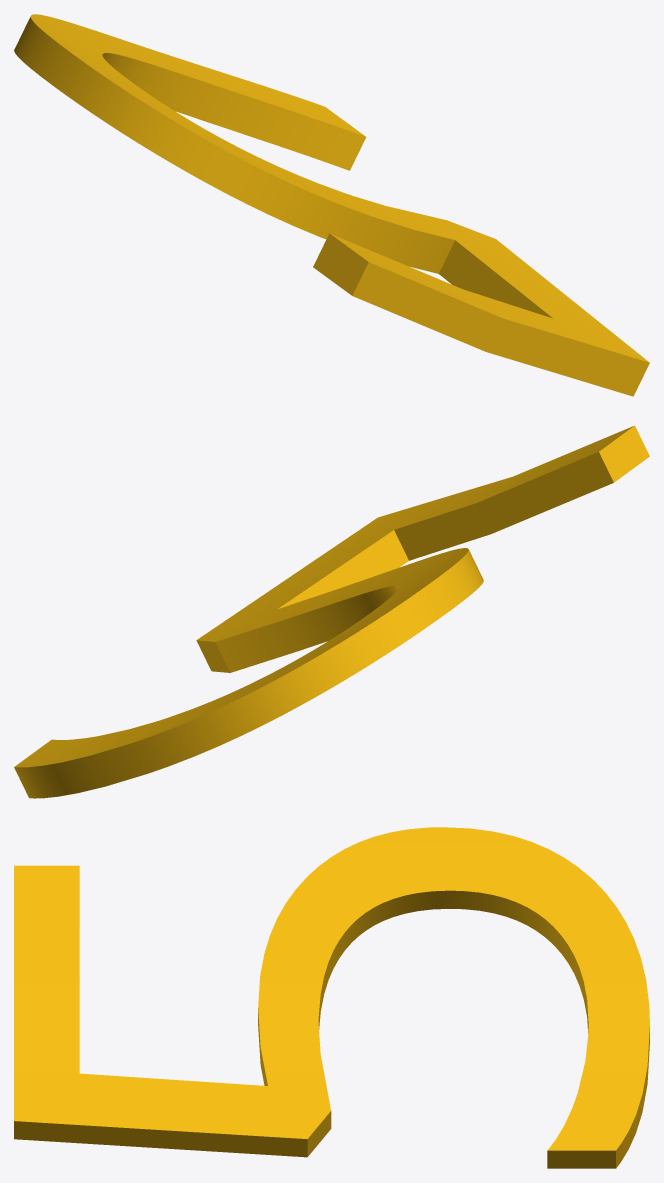
Rendered from Number_5.gltf.
The picture shows the model from 3 angles, top to bottom: view 1: azimuth 30°, elevation 25°; view 2: azimuth 150°, elevation 25°; view 3: azimuth 270°, elevation 25°; orthographic projection. The views are drawn at different scales.
Visible parts, largest first — view 1: Sub_5_Cell_1_2_Number_5; view 2: Sub_5_Cell_1_2_Number_5; view 3: Sub_5_Cell_1_2_Number_5.
Boxes of the visible parts, x1,y1,x2,y2 form: Sub_5_Cell_1_2_Number_5: [14, 14, 649, 396]; Sub_5_Cell_1_2_Number_5: [14, 425, 649, 798]; Sub_5_Cell_1_2_Number_5: [14, 827, 649, 1168].
Bounding box in the file's own units: 0.0144 × 0.00903 × 0.0255.
